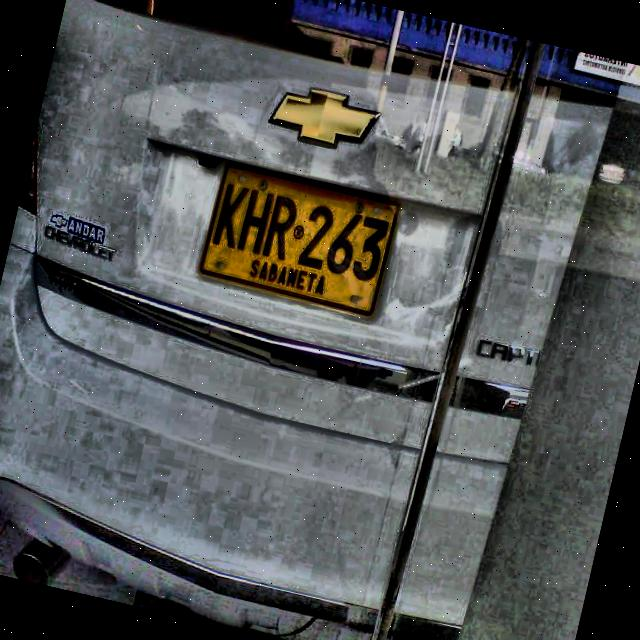2: (296, 200, 336, 270)
3: (348, 212, 391, 286)
6: (322, 206, 364, 278)
H: (236, 188, 274, 255)
K: (211, 182, 249, 249)
R: (262, 193, 300, 261)
